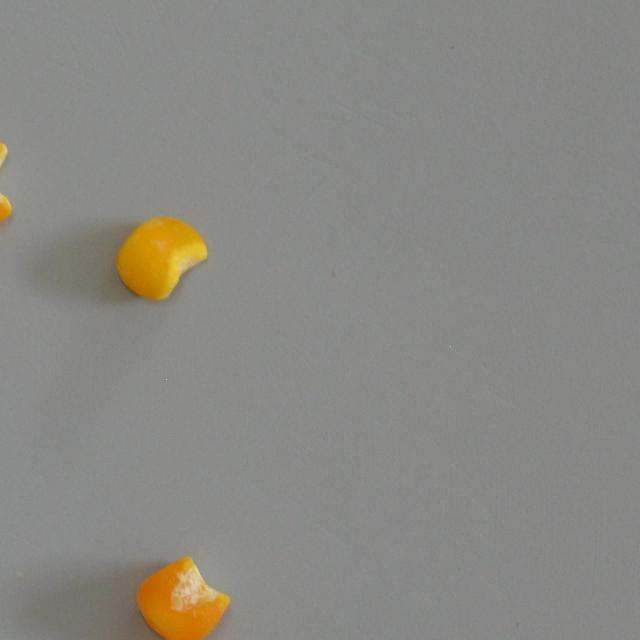dañado: (0, 132, 15, 246)
no_canjicado: (112, 210, 212, 306)
no_desgerminado: (131, 550, 234, 640)
